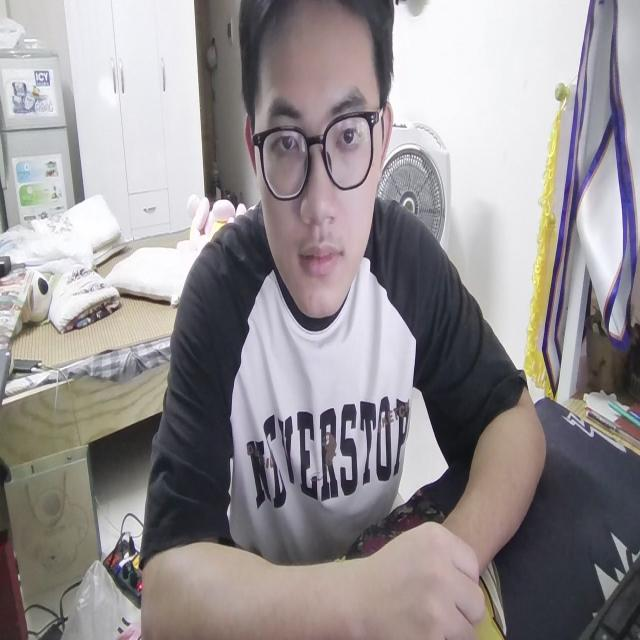student: (140, 17, 548, 640)
